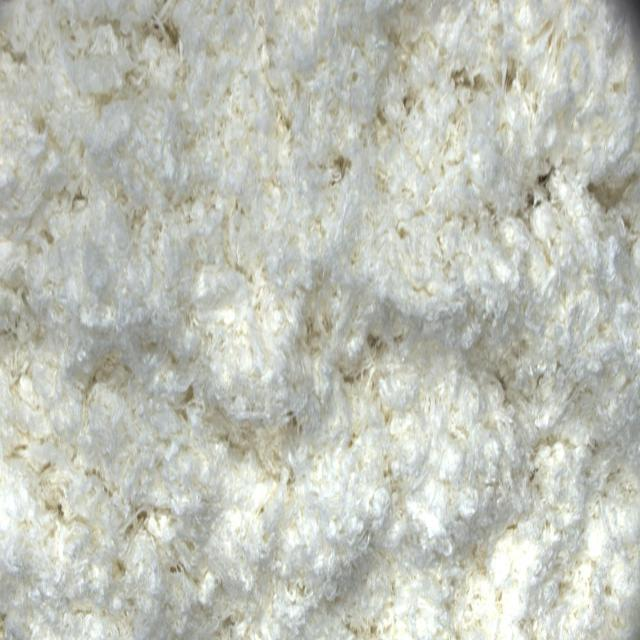dust: (528, 163, 556, 225)
